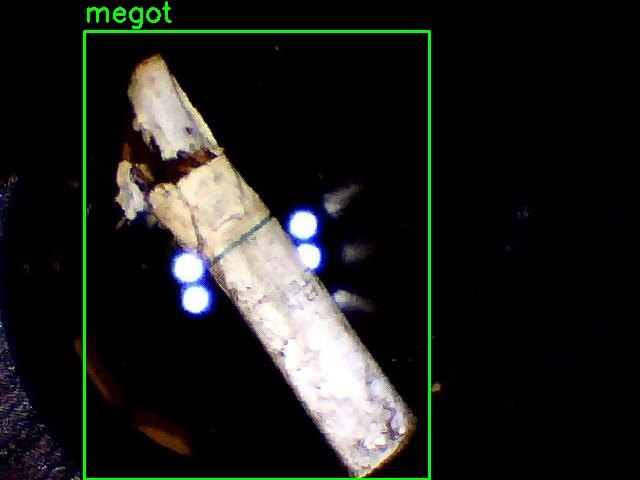megot: (84, 31, 429, 479)
